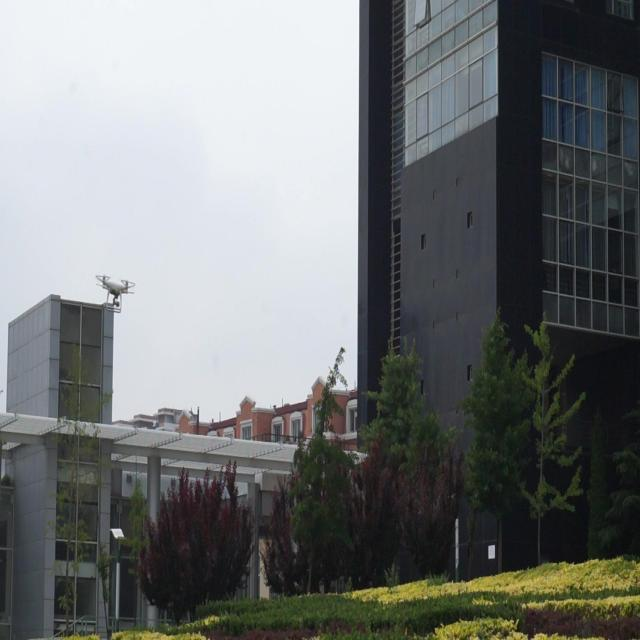UAV: (96, 275, 136, 313)
